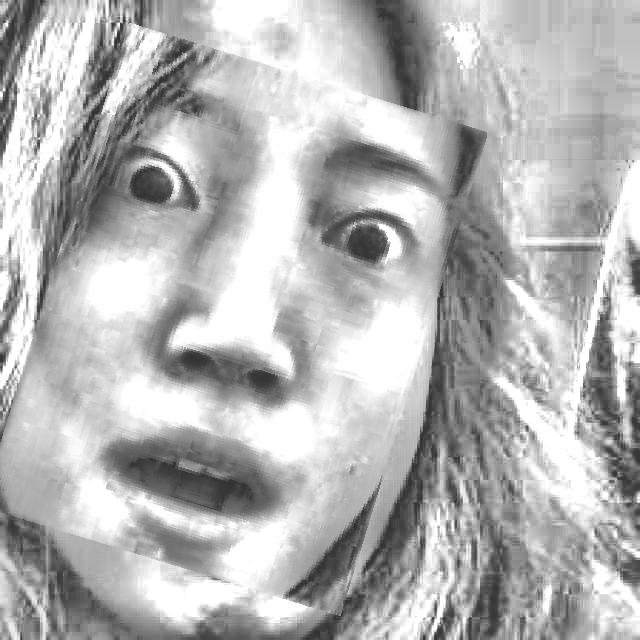fear: (13, 45, 455, 595)
